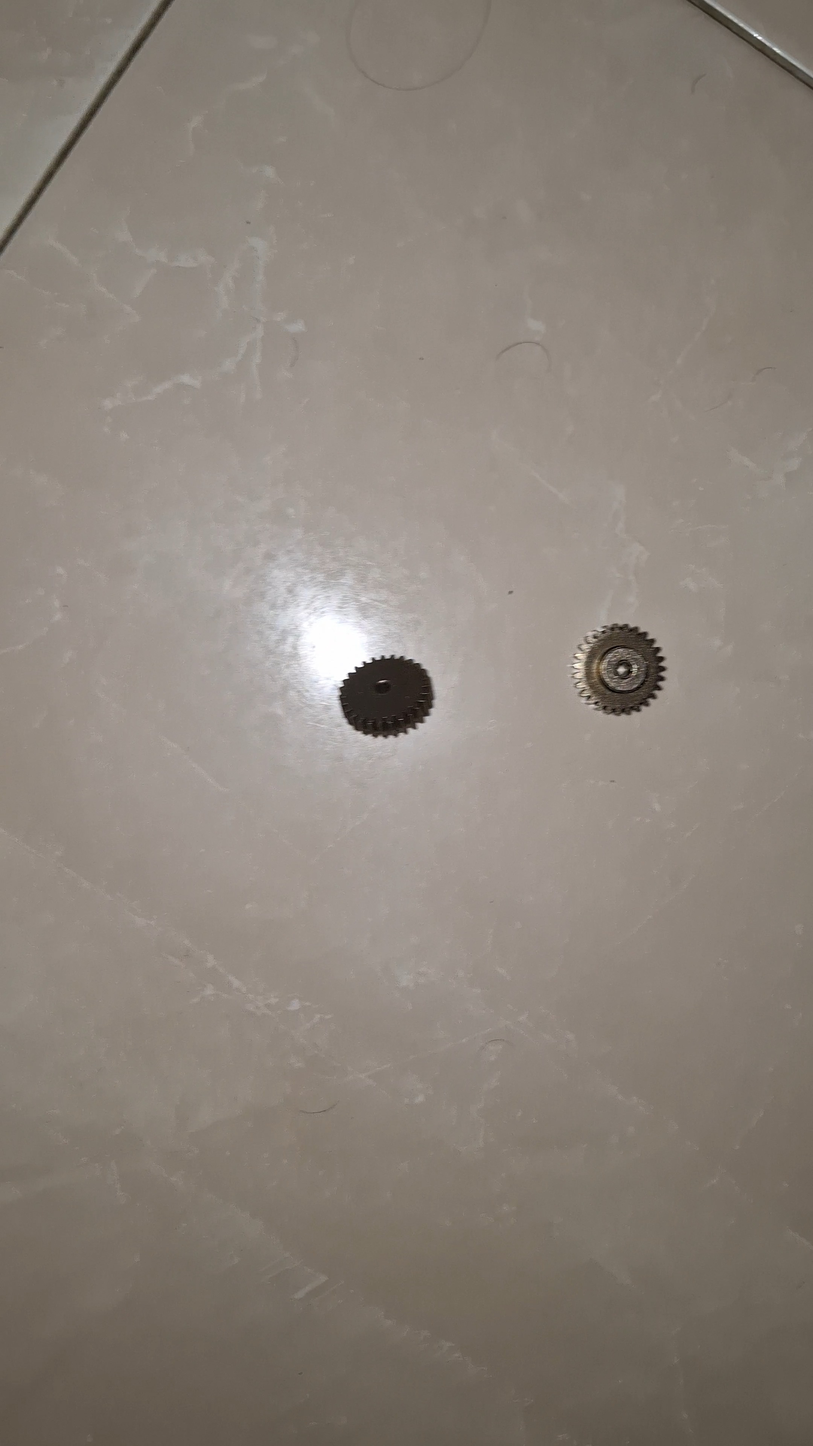spur gear: (572, 624, 665, 714), (340, 657, 433, 737)
